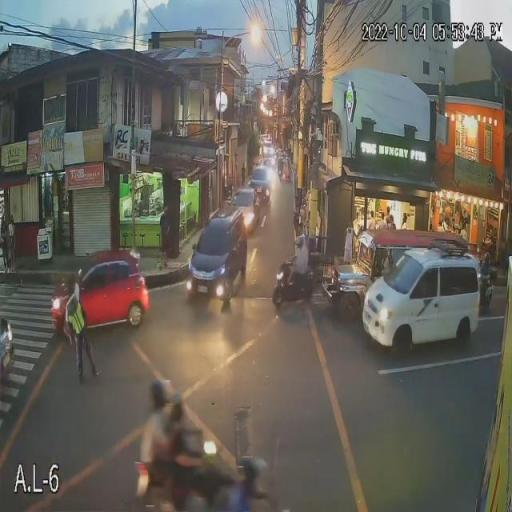helmet: (148, 376, 169, 408), (169, 394, 188, 423), (294, 234, 306, 252)
motorcycle: (134, 444, 282, 512), (270, 266, 316, 307)
rider: (143, 402, 175, 512), (175, 426, 203, 512), (291, 247, 310, 300)
